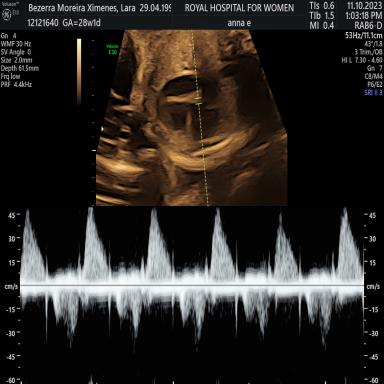Ultrasound-Waves: (26, 208, 360, 384)
